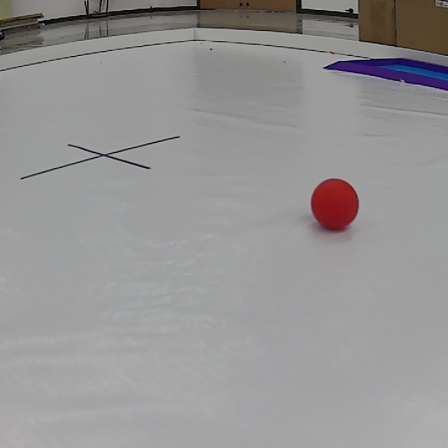blue_aim: (327, 51, 448, 94)
red: (309, 178, 359, 230)
